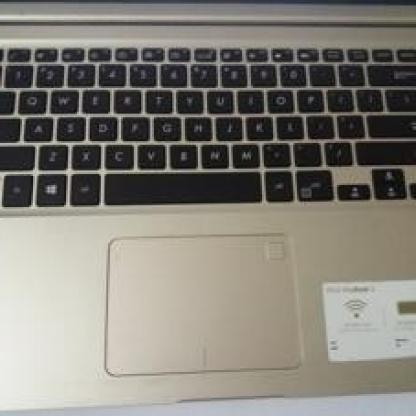keyboard: (0, 25, 412, 254)
